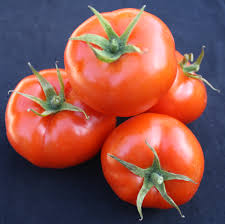tomate: (18, 15, 207, 217)
